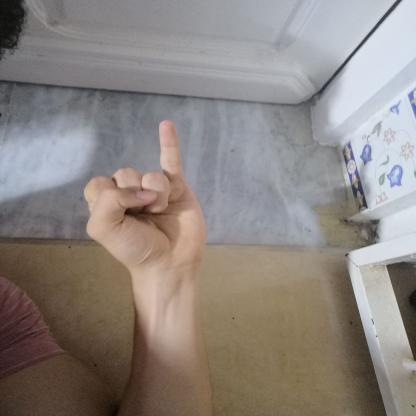MEEM: (69, 113, 222, 282)
